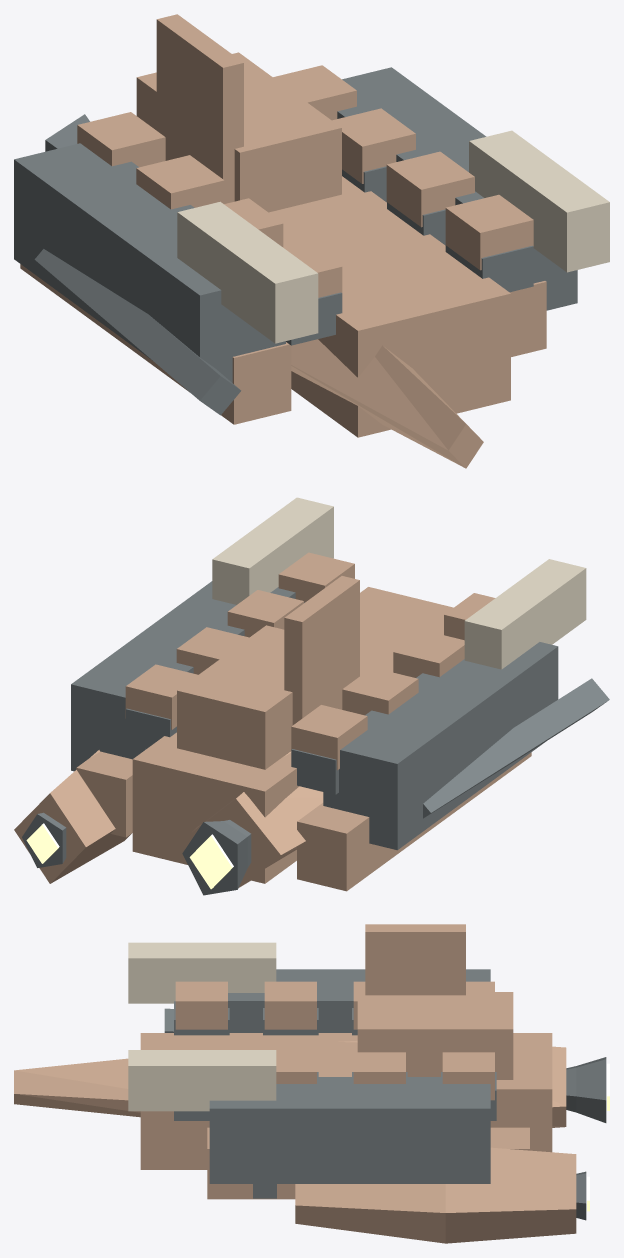
The picture shows the model from 3 angles, top to bottom: view 1: azimuth 30°, elevation 25°; view 2: azimuth 150°, elevation 25°; view 3: azimuth 270°, elevation 25°; orthographic projection. The views are drawn at different scales.
Size of the model in its own units: 13.39 by 9.47 by 21.42.
